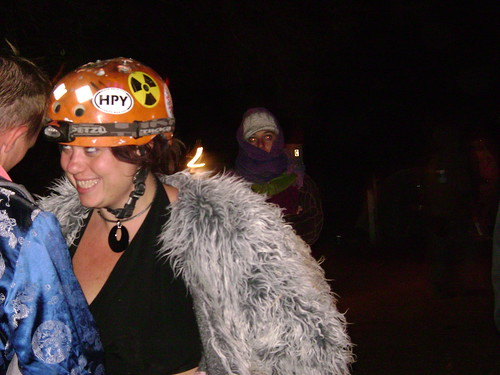helmet: (55, 54, 179, 138)
